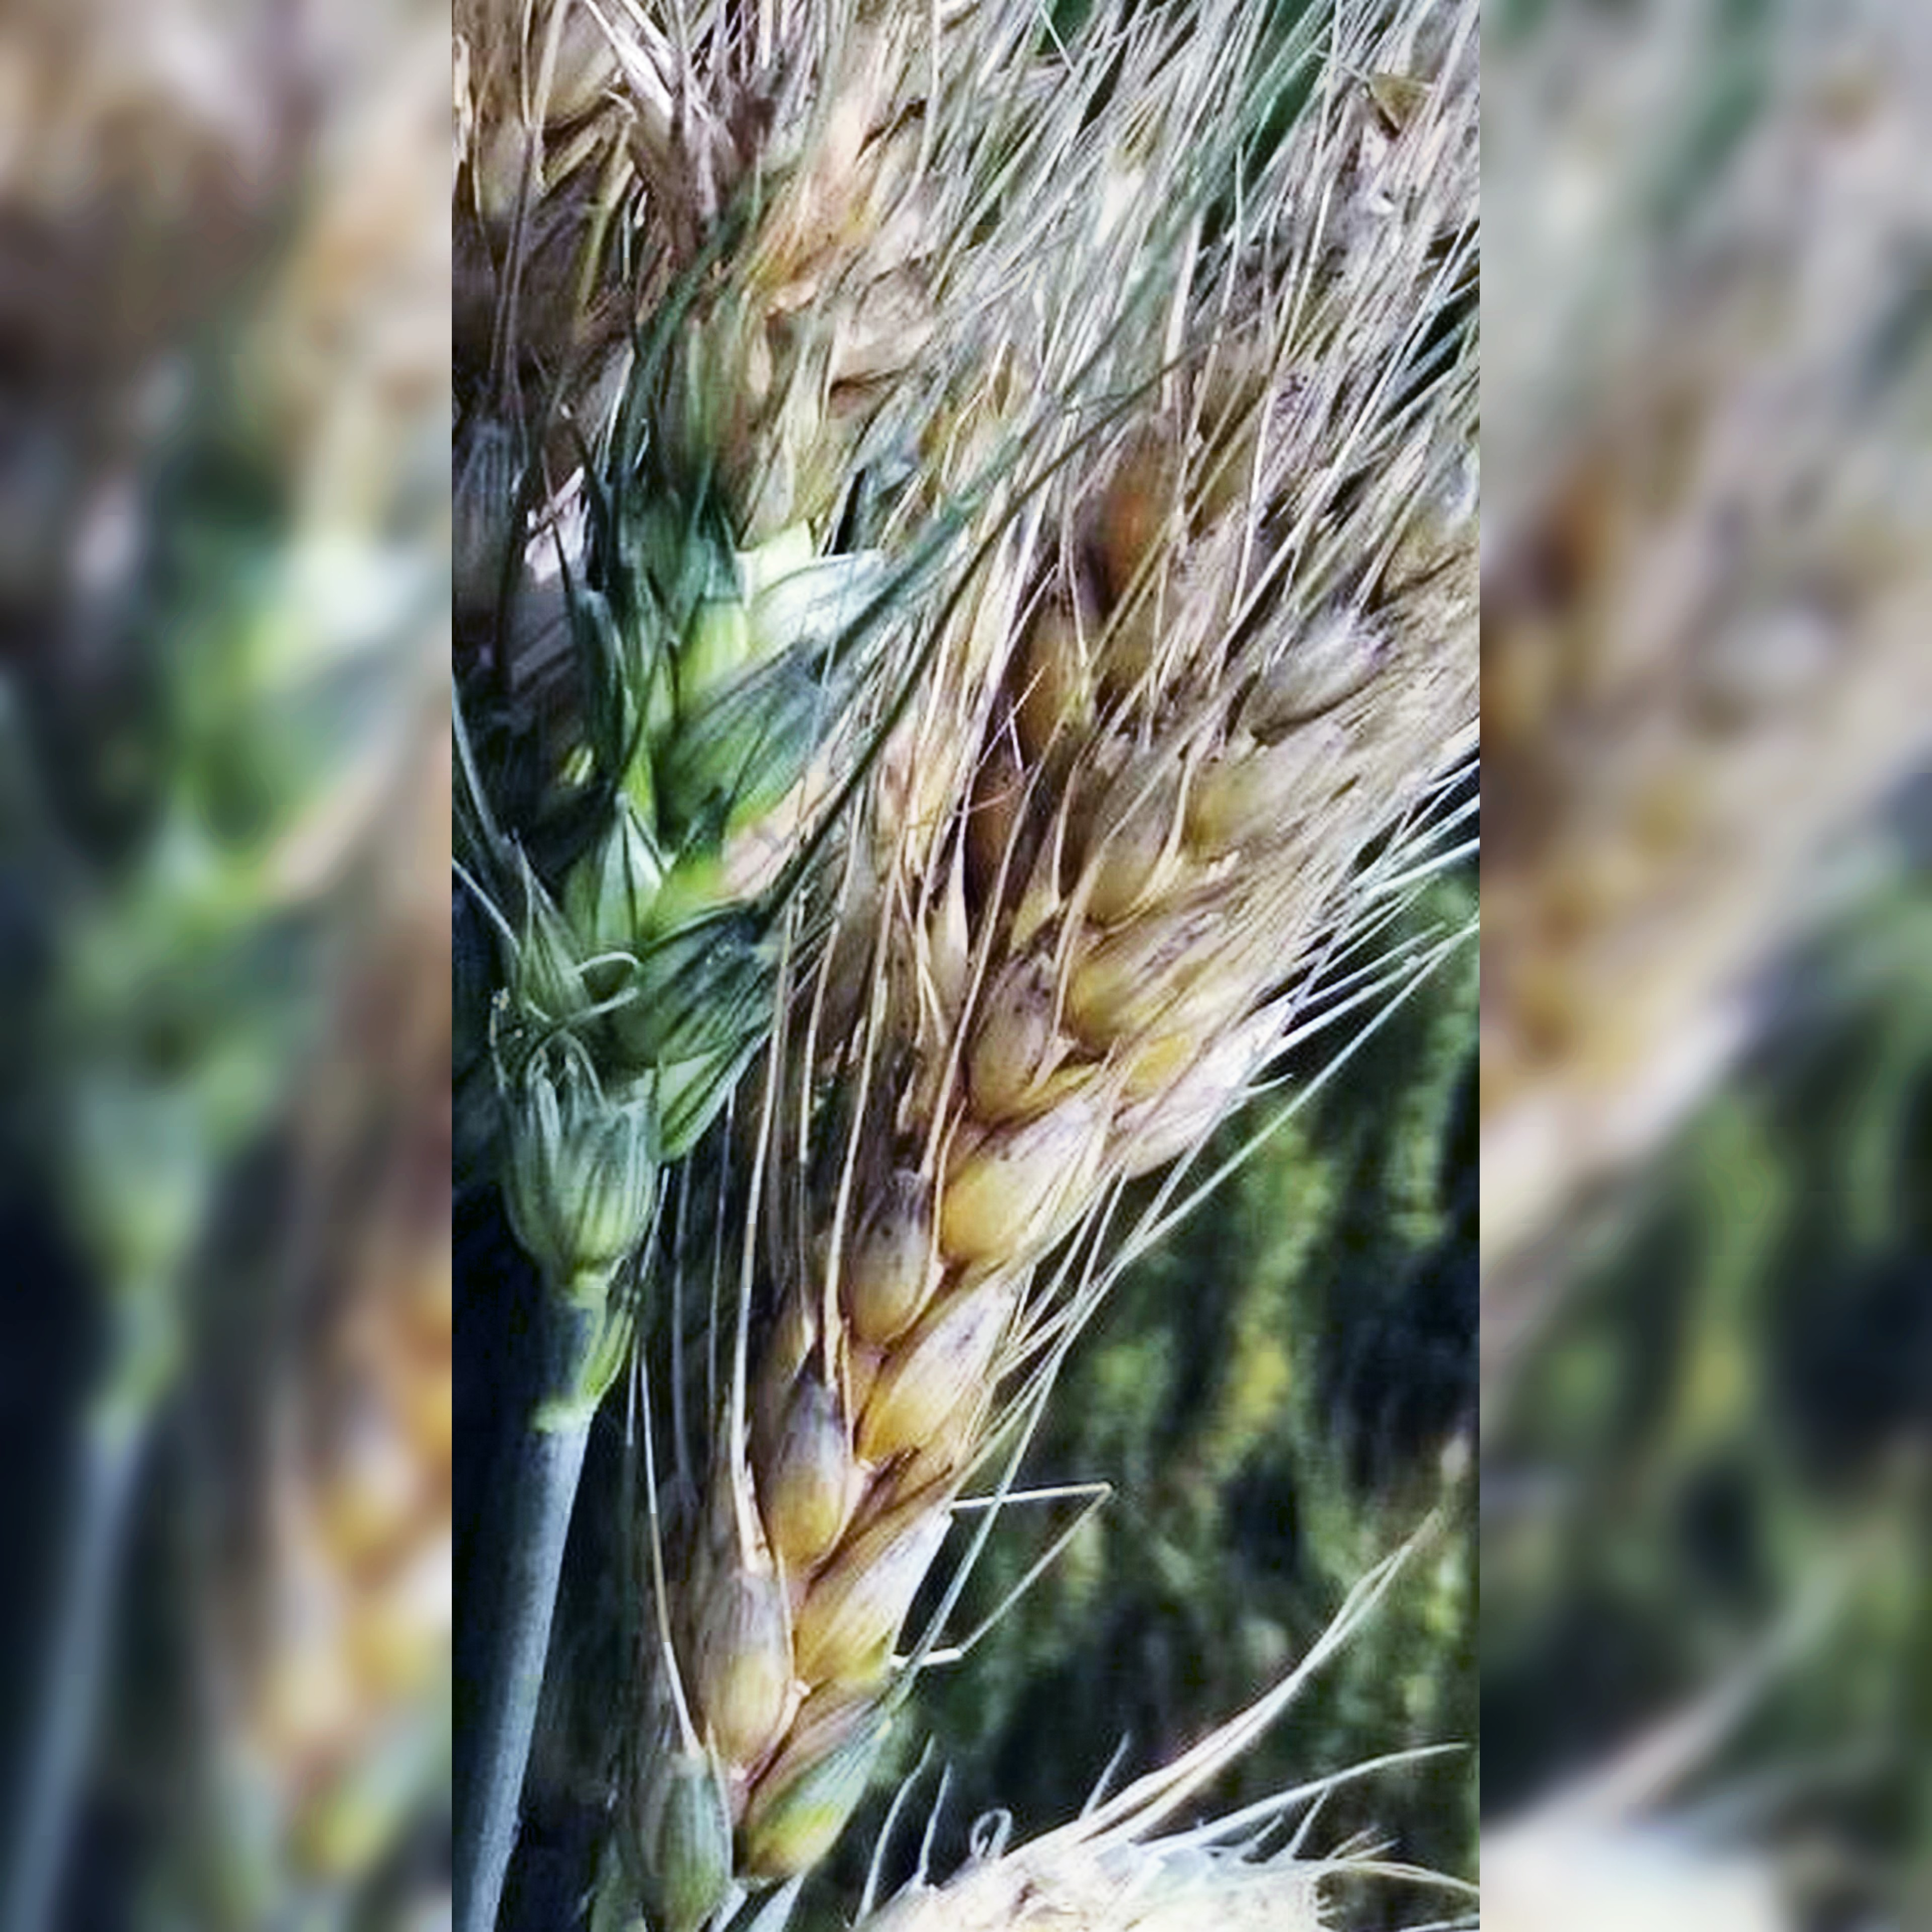Wheat scab: (619, 607, 1412, 1863)
